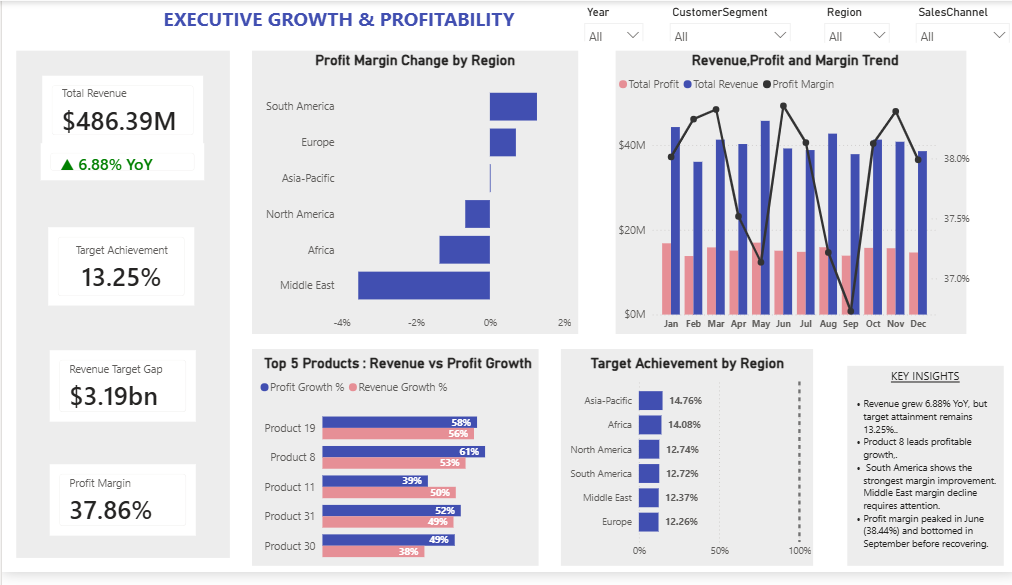

This screenshot's page, from the dashboard's own definition file:
{"tool":"powerbi","page":{"name":"Executive Growth & Profitability","canvas":[1280,720],"ordinal":1},"visuals":[{"type":"cardVisual","fields":{"Data":["Dim_Channel.Total Revenue"]},"box":[46.1,89.1,213.1,97],"z":0},{"type":"cardVisual","fields":{"Data":["Dim_Channel.Profit Margin"]},"box":[54.1,577.4,194.6,100.2],"z":1000},{"type":"cardVisual","fields":{"Data":["Dim_Channel.Revenue Target Achievement"]},"box":[52.5,279.9,194.6,109.6],"z":2000},{"type":"lineClusteredColumnComboChart","title":"Revenue,Profit and  Margin Trend","fields":{"Y":["Dim_Channel.Total Profit","Dim_Channel.Total Revenue"],"Y2":["Dim_Channel.Profit Margin"],"Category":["Dim_Date.MonthName"]},"box":[771.4,63.6,456.5,359.5],"z":3000},{"type":"clusteredBarChart","fields":{"Category":["Dim_Region.Region"],"Y":["Dim_Channel.Revenue Target Achievement"]},"box":[703.1,445.4,321.3,264],"z":4000},{"type":"clusteredBarChart","title":"Top 5 Products : Revenue vs Profit Growth","fields":{"Category":["Dim_Product.ProductName"],"Y":["Dim_Channel.Profit Growth %","Dim_Channel.Revenue Growth %"]},"box":[319.7,445.4,359.5,275.2],"z":5000},{"type":"cardVisual","fields":{"Data":["Dim_Channel.Revenue YoY Label"]},"box":[42.9,173.4,216.3,57.3],"z":6000},{"type":"cardVisual","fields":{"Data":["Dim_Channel.Revenue Target Gap"]},"box":[54.1,434.2,194.6,100.2],"z":7000},{"type":"clusteredBarChart","title":"Profit Margin Change by Region","fields":{"Category":["Dim_Region.Region"],"Y":["_Measures.Margin Change%"]},"box":[319.7,63.6,402.4,359.5],"z":8000},{"type":"slicer","fields":{"Values":["Dim_Date.Year"]},"box":[723.7,0,93.8,50.9],"z":9000},{"type":"slicer","fields":{"Values":["Dim_Region.Region"]},"box":[1025.9,0,102,52.9],"z":10000},{"type":"slicer","fields":{"Values":["Dim_Customer.CustomerSegment"]},"box":[831.9,0,171.8,50.9],"z":11000},{"type":"slicer","fields":{"Values":["Dim_Channel.SalesChannel"]},"box":[1142.1,0,138,52.9],"z":12000},{"type":"textbox","box":[1062.5,456.5,202,240.2],"z":13000},{"type":"textbox","box":[170.2,0,509,50.9],"z":14000}]}

Visuals, with their boxes in screenshot pixels (x1, y1, x2, y2), scaled from the page's 1280x720 canvas onto the 1012x585 screenshot:
cardVisual - Dim_Channel.Total Revenue: crop(36, 72, 205, 151)
cardVisual - Dim_Channel.Profit Margin: crop(43, 469, 197, 551)
cardVisual - Dim_Channel.Revenue Target Achievement: crop(42, 227, 195, 316)
"Revenue,Profit and  Margin Trend" lineClusteredColumnComboChart: crop(610, 52, 971, 344)
clusteredBarChart - Dim_Region.Region x Dim_Channel.Revenue Target Achievement: crop(556, 362, 810, 576)
"Top 5 Products : Revenue vs Profit Growth" clusteredBarChart: crop(253, 362, 537, 584)
cardVisual - Dim_Channel.Revenue YoY Label: crop(34, 141, 205, 187)
cardVisual - Dim_Channel.Revenue Target Gap: crop(43, 353, 197, 434)
"Profit Margin Change by Region" clusteredBarChart: crop(253, 52, 571, 344)
slicer - Dim_Date.Year: crop(572, 0, 646, 41)
slicer - Dim_Region.Region: crop(811, 0, 892, 43)
slicer - Dim_Customer.CustomerSegment: crop(658, 0, 794, 41)
slicer - Dim_Channel.SalesChannel: crop(903, 0, 1011, 43)
textbox: crop(840, 371, 1000, 566)
textbox: crop(135, 0, 537, 41)
